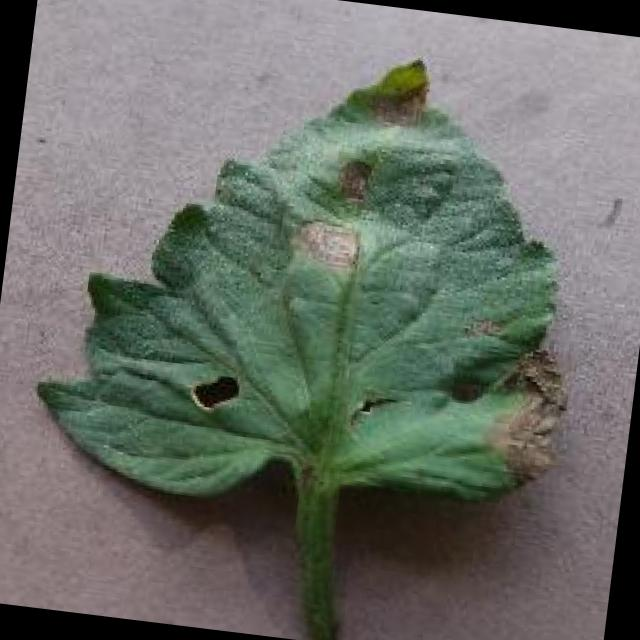Tomato_Early_Blight: (256, 31, 628, 488)
